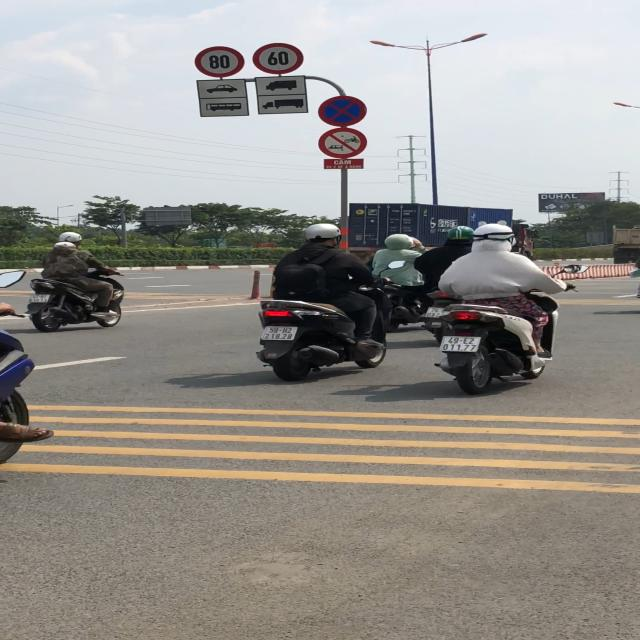Bien bao cam dung xe va do xe: (315, 94, 370, 128)
Bien bao toc do toi da cho phep: (251, 41, 309, 75), (194, 44, 248, 79)
